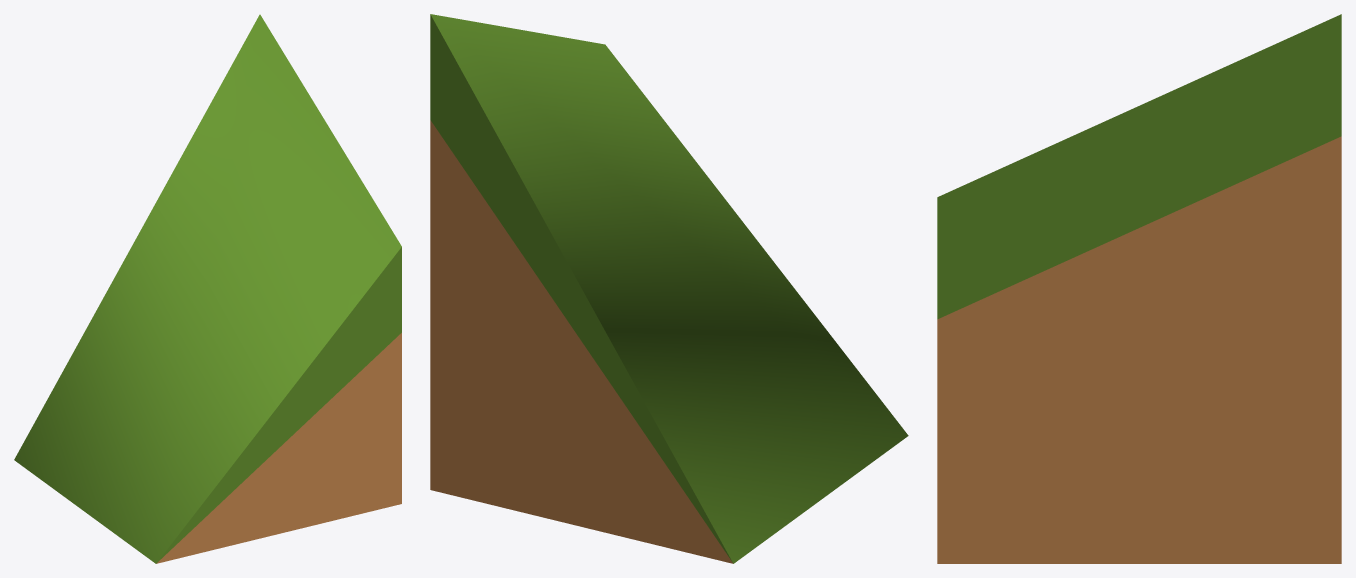
File: TileGrassMiring2Arah.fbx
3 views of the same model, side by side, from view 1: azimuth 30°, elevation 25°; view 2: azimuth 150°, elevation 25°; view 3: azimuth 270°, elevation 25° (orthographic). The views are drawn at different scales.
Parts seen in each view (by area): view 1: Tile_Center; view 2: Tile_Center; view 3: Tile_Center.
Part boxes in pixels (<box>): Tile_Center: <box>14,14,401,563</box>; Tile_Center: <box>430,14,908,563</box>; Tile_Center: <box>937,14,1341,563</box>.
Size of the model in its own units: 200 by 300 by 200.
